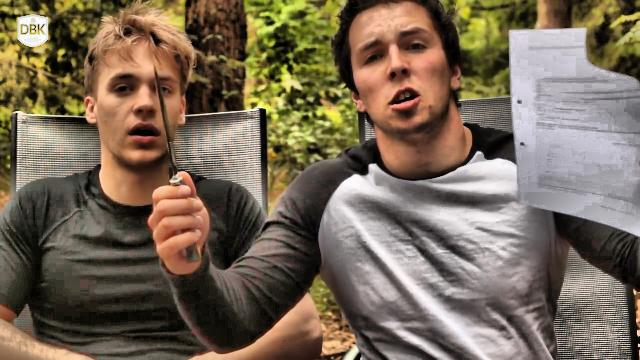knife: (145, 55, 211, 273)
